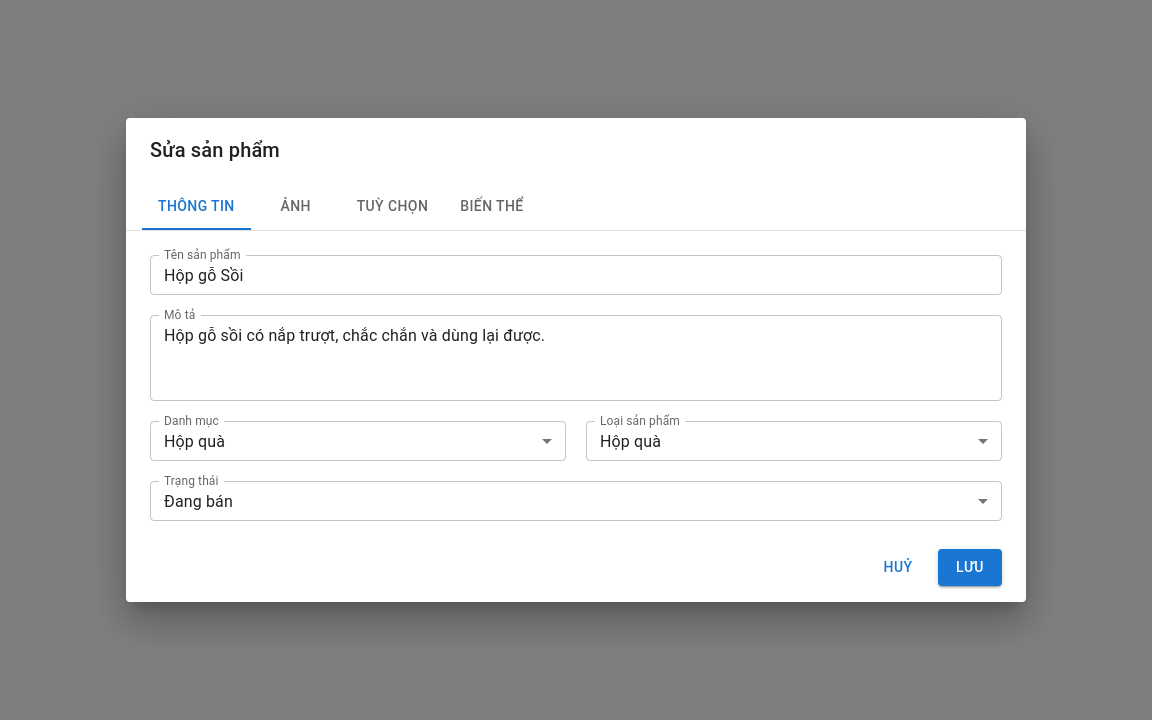
it: ProductFormDialog › hộp quà hiện ô lòng hộp và tải trọng
The width and height of the screenshot is (1152, 720).
Click the tab "Biến thể" at (492, 206), box [444,182,540,230]
(page scrolled)
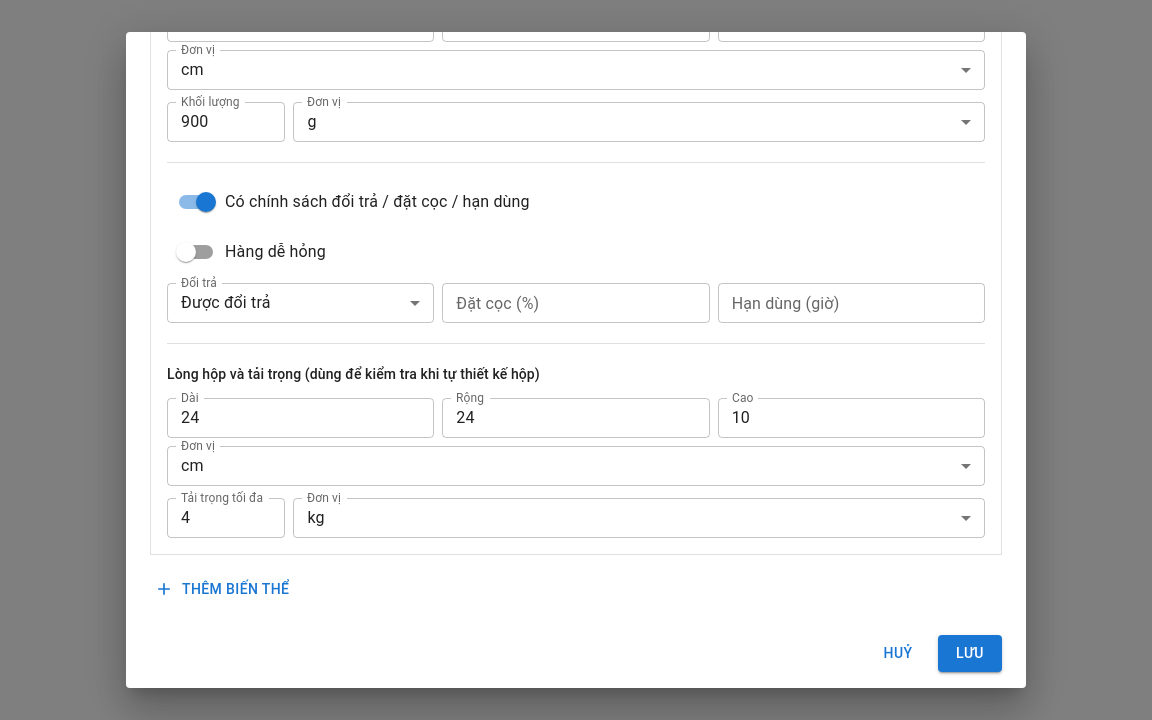
Expected: the number field labelled "Tải trọng tối đa" holds "4", [167,498,285,538]
